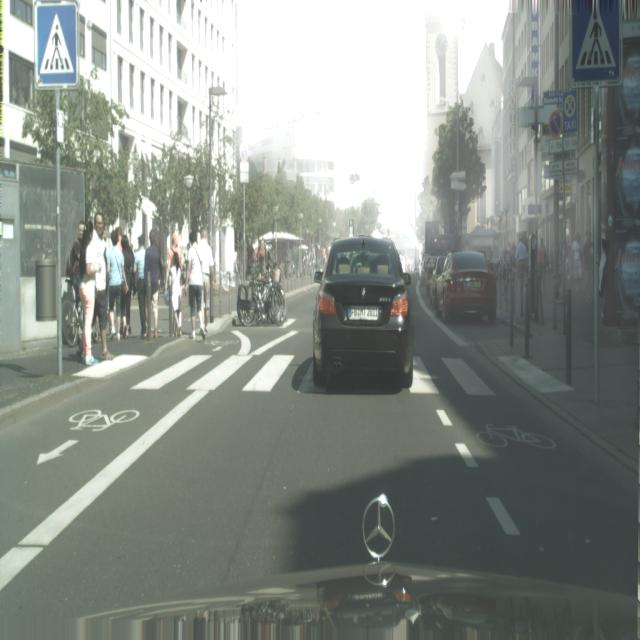bus: (237, 268, 288, 325)
car: (62, 278, 83, 348)
person: (68, 212, 100, 365), (90, 213, 115, 362), (185, 231, 206, 341), (107, 228, 127, 341), (144, 227, 162, 339), (166, 231, 184, 337), (133, 233, 148, 341), (198, 230, 214, 331), (120, 234, 134, 336), (514, 231, 528, 320), (537, 234, 548, 323)
truck: (312, 236, 415, 391), (436, 250, 497, 324), (428, 254, 449, 306)
